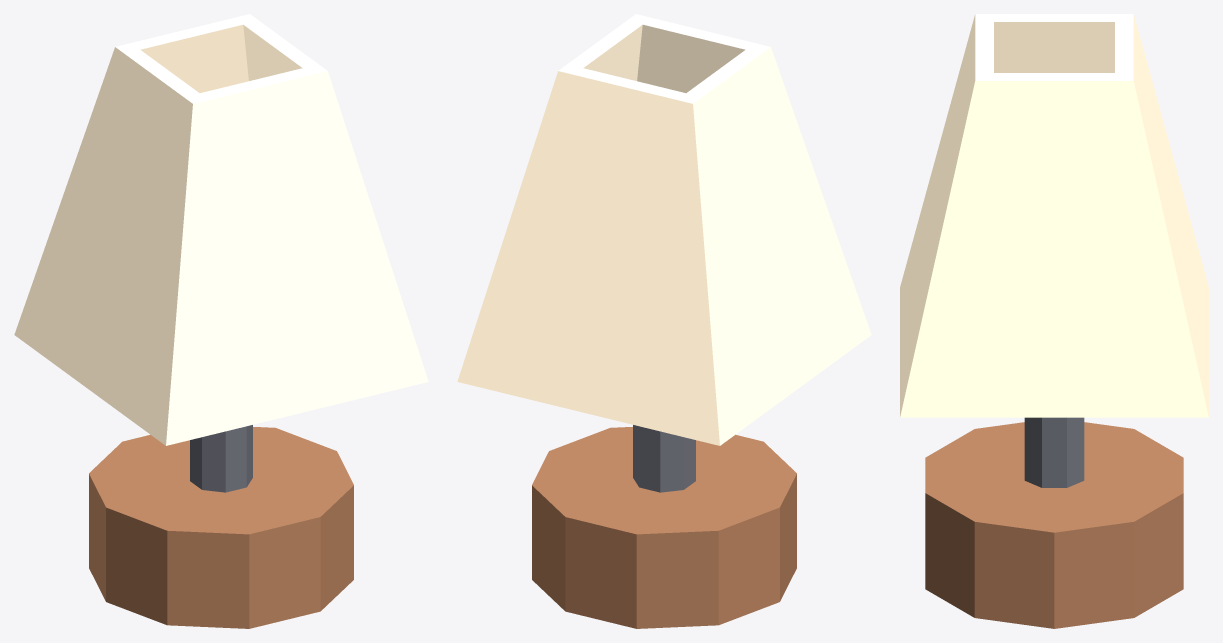
The model's file is _Table_Lamp.fbx.
3 views of the same model, side by side, from view 1: azimuth 30°, elevation 25°; view 2: azimuth 150°, elevation 25°; view 3: azimuth 270°, elevation 25° (orthographic).
Parts seen in each view (by area): view 1: Open hollow shade, 03_Table_Lamp / Octagonal foot, 03_Table_Lamp / Stem; view 2: Open hollow shade, 03_Table_Lamp / Octagonal foot, 03_Table_Lamp / Stem; view 3: Open hollow shade, 03_Table_Lamp / Octagonal foot, 03_Table_Lamp / Stem.
Part boxes in pixels (x1=…): Open hollow shade: x1=14, y1=14, x2=428, y2=445; 03_Table_Lamp / Octagonal foot: x1=89, y1=427, x2=353, y2=628; 03_Table_Lamp / Stem: x1=190, y1=425, x2=252, y2=492; Open hollow shade: x1=457, y1=14, x2=871, y2=445; 03_Table_Lamp / Octagonal foot: x1=532, y1=427, x2=796, y2=628; 03_Table_Lamp / Stem: x1=633, y1=425, x2=695, y2=492; Open hollow shade: x1=900, y1=14, x2=1208, y2=417; 03_Table_Lamp / Octagonal foot: x1=925, y1=422, x2=1183, y2=628; 03_Table_Lamp / Stem: x1=1024, y1=417, x2=1084, y2=487.
Size of the model in its own units: 52.33 by 98 by 52.33.
